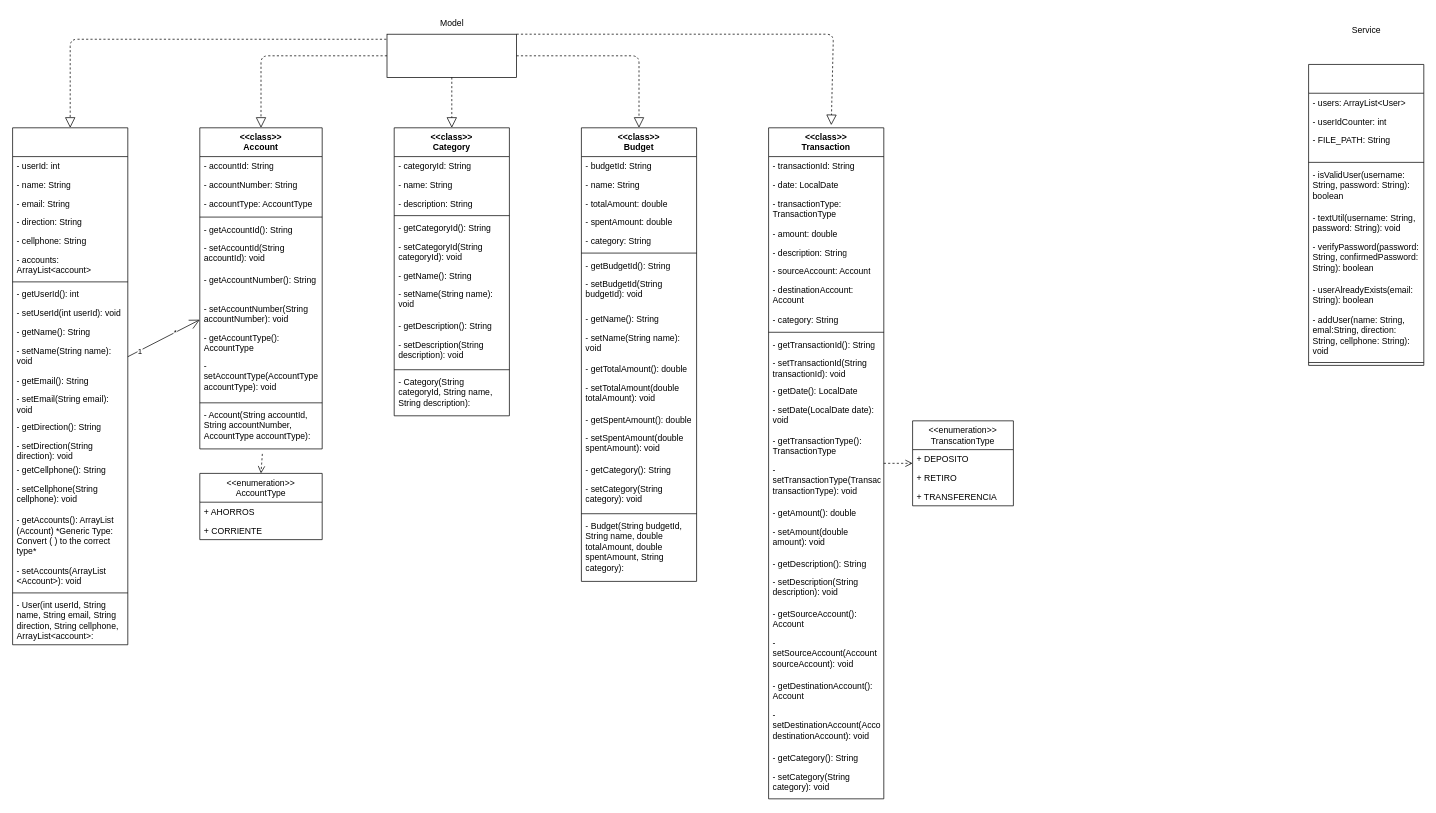
The diagram is 1436 pixels wide and 813 high, and some of its shapes have lost their labels. The box of each missing label's shape, as (x1, y1, x2, y2) in pixels:
<<class>> User: (12, 127, 128, 645)
<<class>> UserService: (1308, 64, 1424, 365)
«interface» Serializable: (386, 33, 517, 77)
